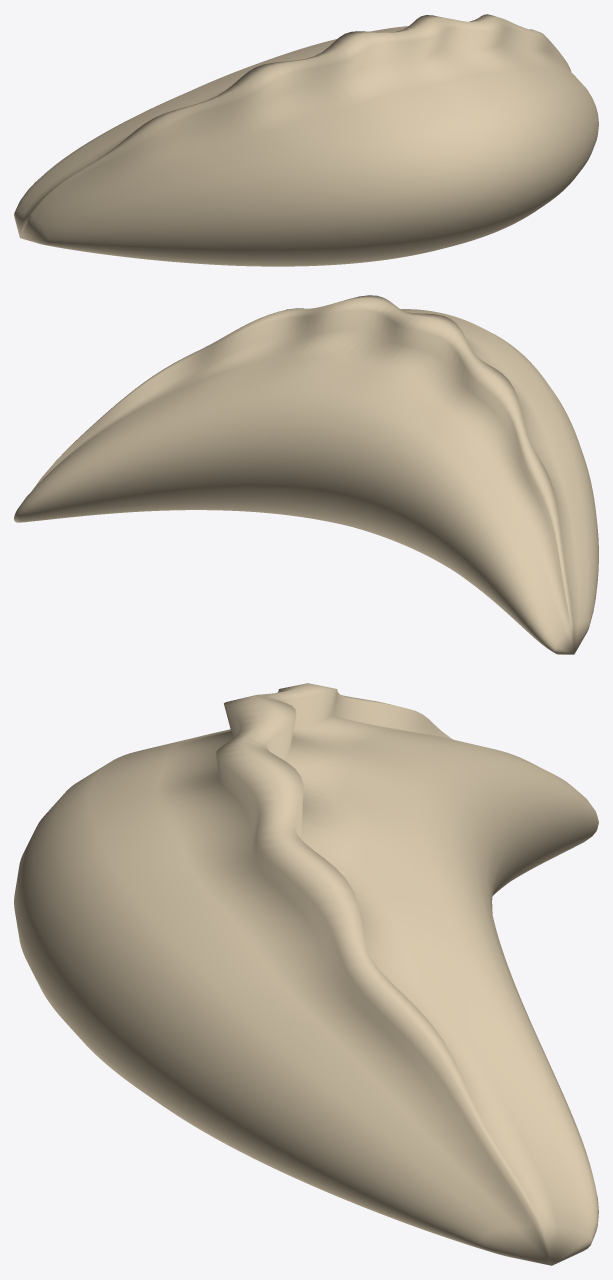
Rendered from NEW_RECOVERY_043_LOD0.glb.
3 views of the same model, one above another, from view 1: azimuth 30°, elevation 25°; view 2: azimuth 150°, elevation 25°; view 3: azimuth 270°, elevation 25° (orthographic). The views are drawn at different scales.
Visible parts, largest first — view 1: Whole crescent dumpling; view 2: Whole crescent dumpling; view 3: Whole crescent dumpling.
Part boxes in pixels (bbox=[...]): Whole crescent dumpling: bbox=[14, 14, 598, 266]; Whole crescent dumpling: bbox=[14, 295, 598, 654]; Whole crescent dumpling: bbox=[14, 683, 598, 1265].
Size of the model in its own units: 2 by 0.7239 by 1.17.
